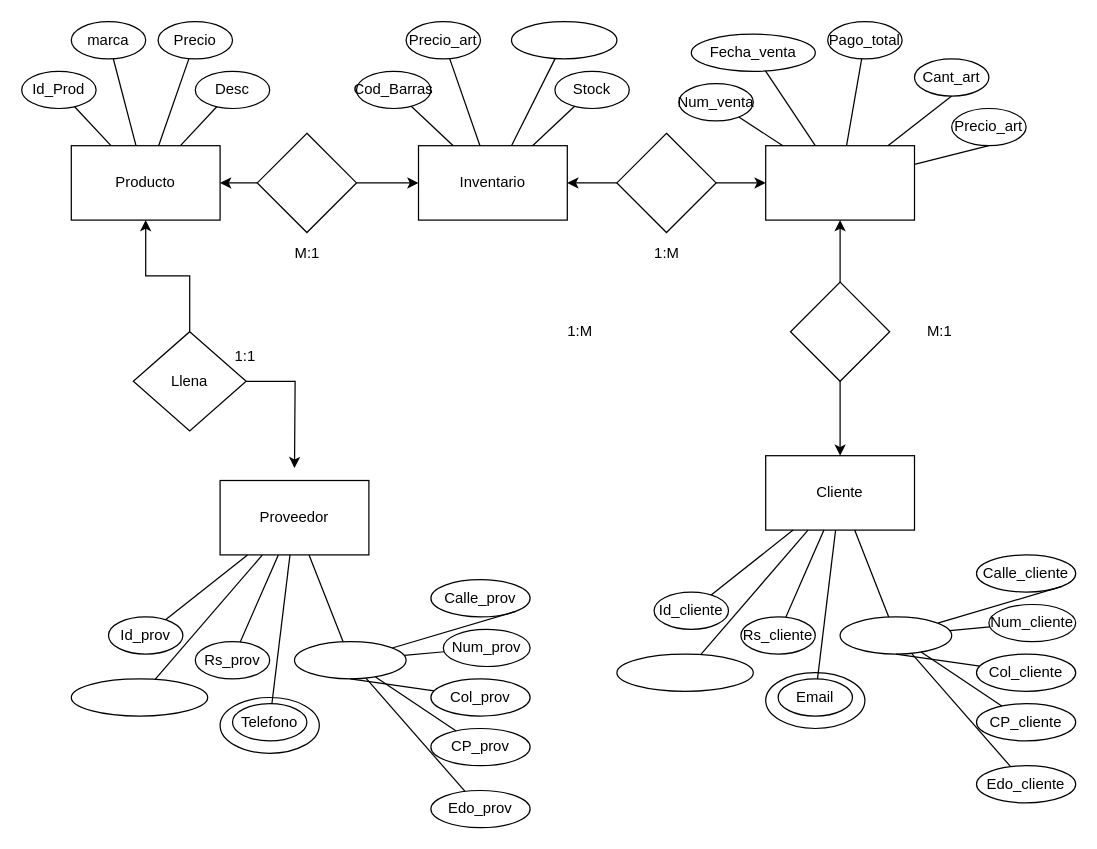
The diagram is 1097 pixels wide and 849 high, and some of its shapes have lost their labels. Each missing label, with the centre of its shape:
"Domicilio_cliente" goes at point (895, 635).
"Domicilio_prov" goes at point (349, 659).
"Fecha_compra" goes at point (563, 39).
"Nombre_cliente" goes at point (684, 672).
"Nombre_prov" goes at point (139, 697).
"Realiza" goes at point (839, 331).
"tiene" goes at point (306, 182).
"vacia" goes at point (666, 182).
"Venta" goes at point (839, 182).
